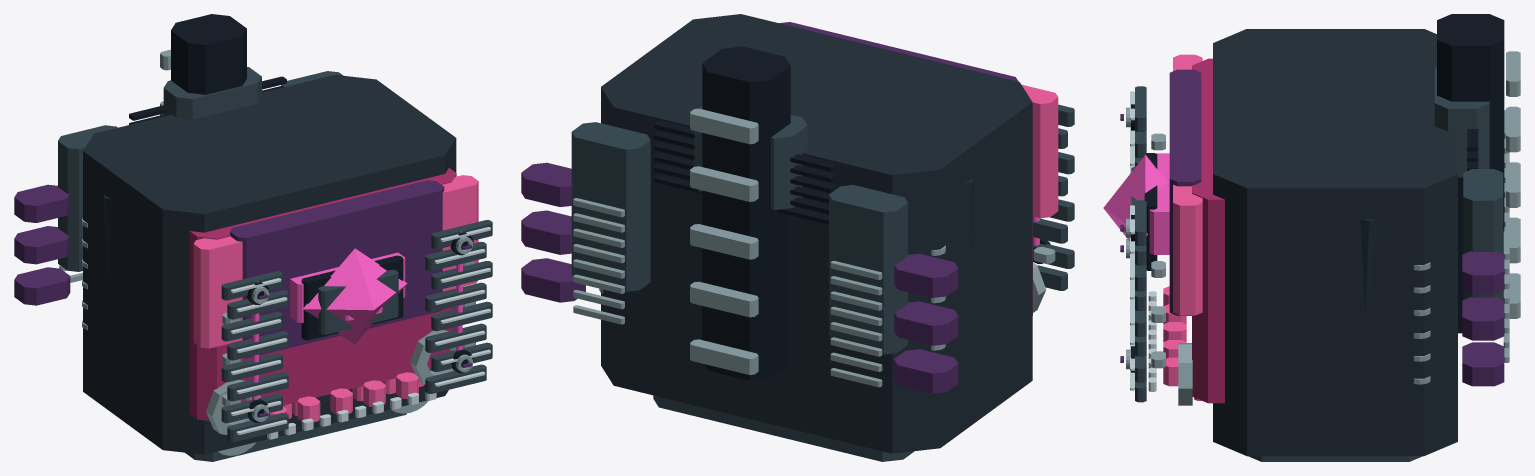
Rendered from enemy_striker_4k_body.obj.
3 renders of one model, left to right at view 1: azimuth 30°, elevation 25°; view 2: azimuth 150°, elevation 25°; view 3: azimuth 270°, elevation 25°, orthographic. The views are drawn at different scales.
Size of the model in its own units: 1.12 by 0.975 by 0.9885.
